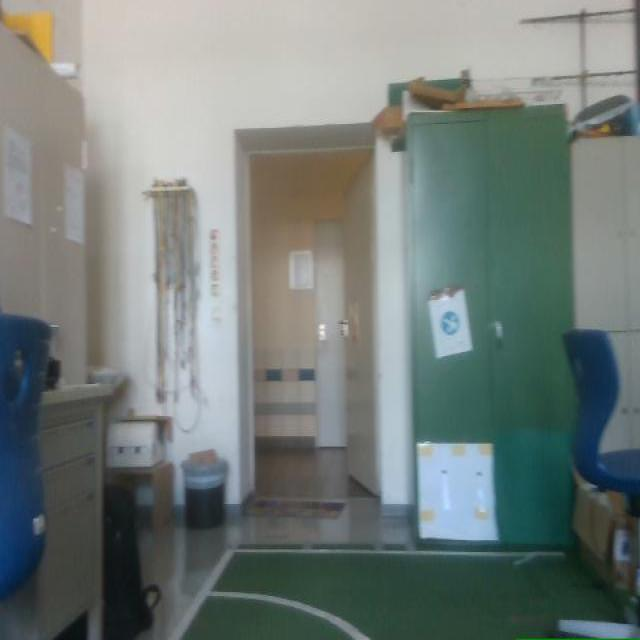objects: (406, 106, 572, 547), (0, 314, 50, 599), (564, 330, 639, 518), (564, 330, 639, 517), (104, 486, 160, 639), (571, 95, 639, 138), (55, 615, 87, 639)
